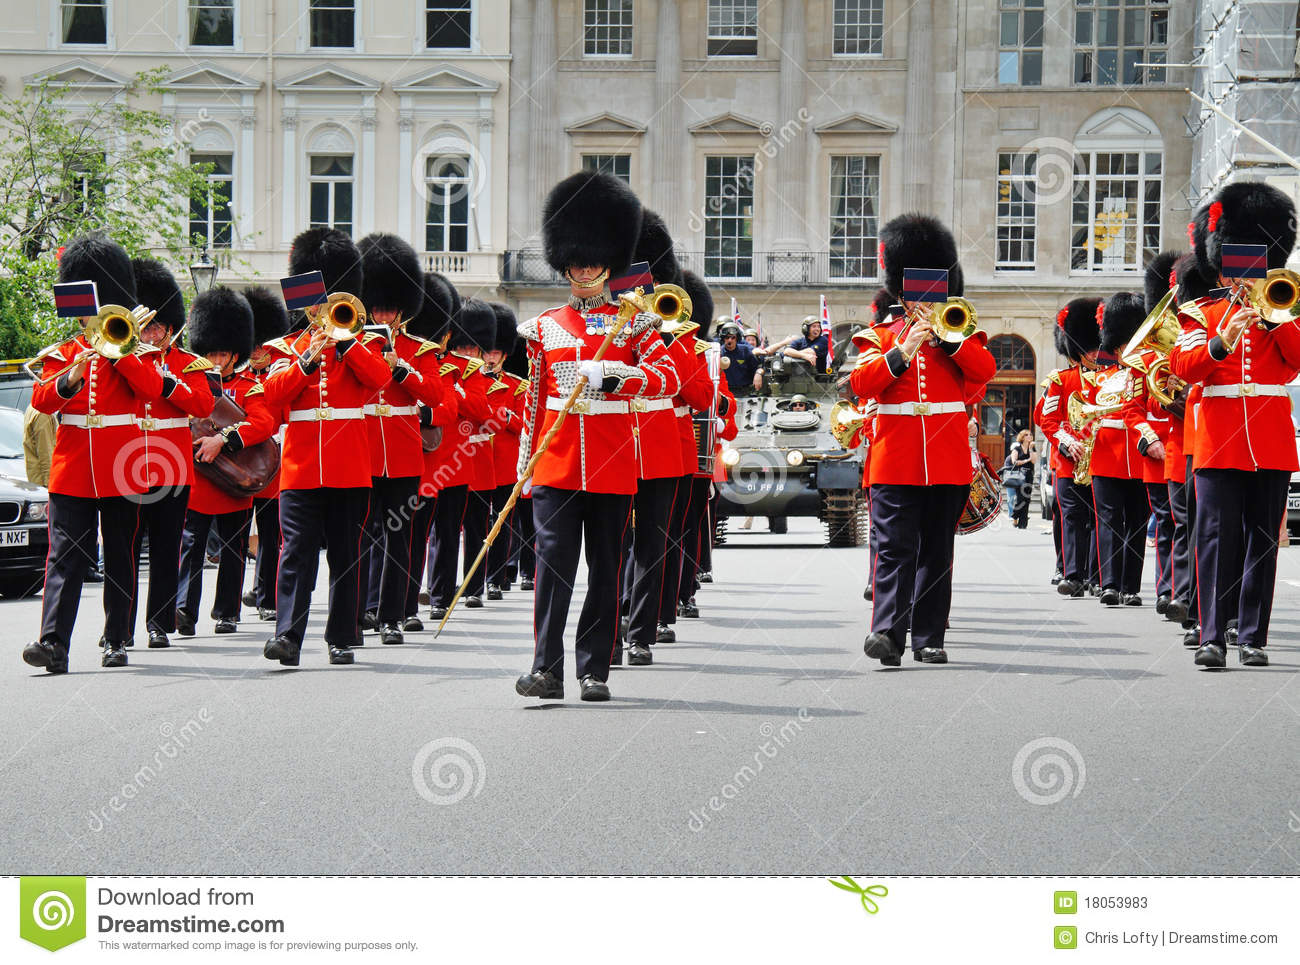feet: (13, 602, 138, 678), (501, 646, 626, 710), (858, 611, 964, 674), (260, 614, 356, 674), (161, 580, 244, 640), (1192, 621, 1275, 680), (590, 610, 670, 668), (335, 600, 409, 648), (392, 584, 457, 635), (119, 605, 179, 654), (1151, 588, 1201, 630), (1093, 578, 1145, 615), (1051, 567, 1103, 603)
